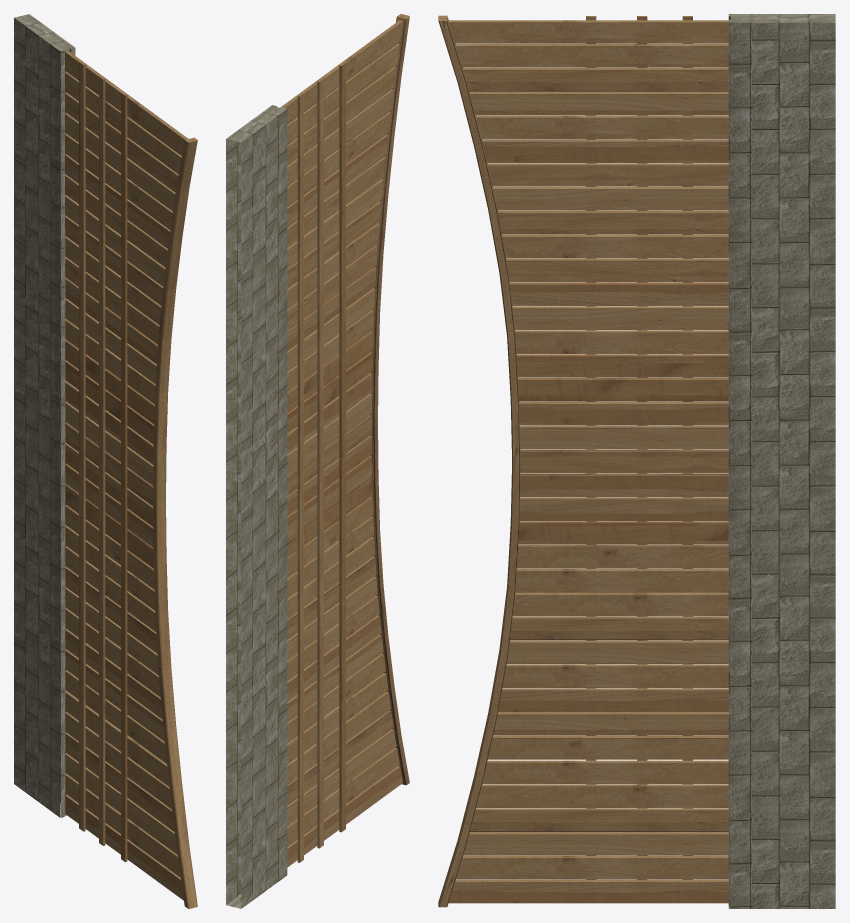
Rendered from nt_concrete_fence_192_tall_LOD0.obj.
The picture shows the model from 3 angles, left to right: view 1: azimuth 30°, elevation 25°; view 2: azimuth 150°, elevation 25°; view 3: azimuth 270°, elevation 25°; orthographic projection. The views are drawn at different scales.
Parts seen in each view (by area): view 1: nt_wood_fence, nt_2020_concrete_pattern_02; view 2: nt_wood_fence, nt_2020_concrete_pattern_02; view 3: nt_wood_fence, nt_2020_concrete_pattern_02.
Boxes of the visible parts, bbox=[...] form: nt_wood_fence: bbox=[65, 51, 197, 908]; nt_2020_concrete_pattern_02: bbox=[14, 14, 75, 817]; nt_wood_fence: bbox=[280, 14, 409, 867]; nt_2020_concrete_pattern_02: bbox=[226, 105, 287, 908]; nt_wood_fence: bbox=[438, 15, 728, 907]; nt_2020_concrete_pattern_02: bbox=[728, 14, 835, 908].
Size of the model in its own units: 10.16 by 488 by 198.
Materials: 2 (2 with a texture image).
